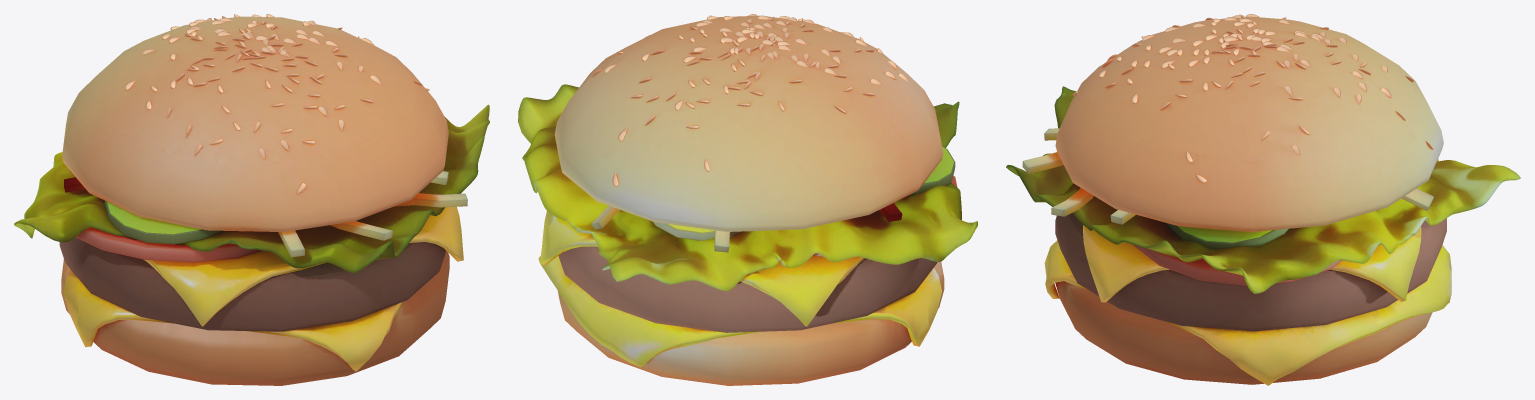
Rendered from burger-transformed.glb.
3 views of the same model, side by side, from view 1: azimuth 30°, elevation 25°; view 2: azimuth 150°, elevation 25°; view 3: azimuth 270°, elevation 25° (orthographic).
Visible parts, largest first — view 1: bun_top_4, burger_6, bun_bottom_5, lettuce_15, cheez_7, cheez.001_8, seeds_0, tomato 1_12, onion 7_18, pickle 5_17; view 2: bun_top_4, lettuce_15, burger_6, bun_bottom_5, cheez.001_8, cheez_7, seeds_0, onion 7_18, pickle 5_17, pickle 1_9; view 3: bun_top_4, lettuce_15, burger_6, bun_bottom_5, cheez.001_8, cheez_7, seeds_0, onion 7_18, pickle 2_10, tomato 3_14.
Boxes of the visible parts, x1=… form: bun_top_4: x1=62, y1=16, x2=448, y2=231; burger_6: x1=59, y1=237, x2=445, y2=331; bun_bottom_5: x1=61, y1=251, x2=449, y2=385; lettuce_15: x1=14, y1=104, x2=489, y2=272; cheez_7: x1=143, y1=206, x2=463, y2=326; cheez.001_8: x1=63, y1=269, x2=403, y2=371; seeds_0: x1=125, y1=14, x2=429, y2=194; tomato 1_12: x1=75, y1=227, x2=261, y2=262; onion 7_18: x1=64, y1=171, x2=467, y2=257; pickle 5_17: x1=104, y1=200, x2=222, y2=244; bun_top_4: x1=554, y1=15, x2=943, y2=231; lettuce_15: x1=518, y1=84, x2=977, y2=290; burger_6: x1=558, y1=246, x2=937, y2=332; bun_bottom_5: x1=558, y1=261, x2=944, y2=385; cheez.001_8: x1=538, y1=256, x2=941, y2=367; cheez_7: x1=539, y1=211, x2=864, y2=326; seeds_0: x1=592, y1=14, x2=909, y2=186; onion 7_18: x1=591, y1=203, x2=902, y2=252; pickle 5_17: x1=910, y1=146, x2=955, y2=195; pickle 1_9: x1=652, y1=221, x2=743, y2=240; bun_top_4: x1=1055, y1=16, x2=1443, y2=231; lettuce_15: x1=1006, y1=86, x2=1520, y2=293; burger_6: x1=1055, y1=213, x2=1446, y2=331; bun_bottom_5: x1=1055, y1=281, x2=1432, y2=384; cheez.001_8: x1=1044, y1=240, x2=1451, y2=385; cheez_7: x1=1083, y1=225, x2=1421, y2=302; seeds_0: x1=1072, y1=14, x2=1433, y2=182; onion 7_18: x1=1022, y1=128, x2=1433, y2=224; pickle 2_10: x1=1167, y1=223, x2=1288, y2=248; tomato 3_14: x1=1133, y1=245, x2=1342, y2=285.
Size of the model in its own units: 0.828 by 0.4709 by 0.8016.
Materials: 21 (21 with a texture image).
